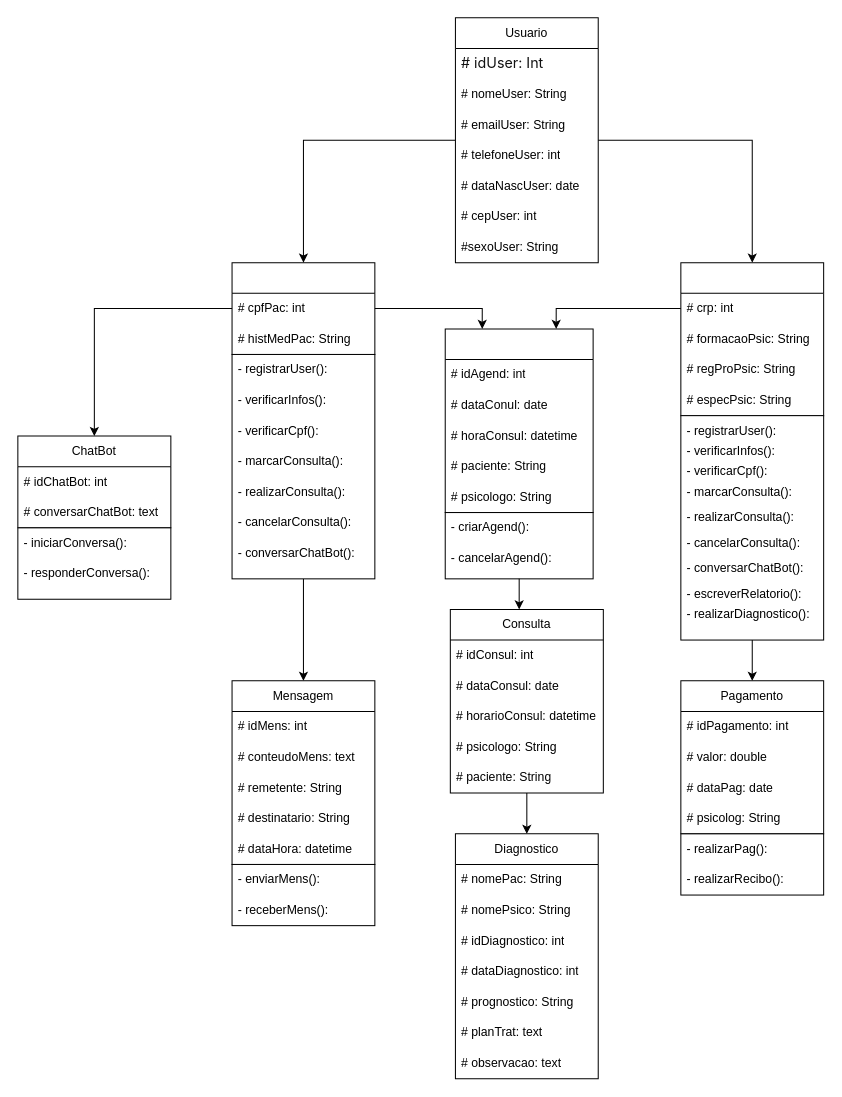
The diagram is 842 pixels wide and 1097 high, and some of its shapes have lost their labels. The shapes that lost their labels are listed below. From the top down, each one's box as (x1, y1, x2, y2) in pixels, then its label:
(231, 262, 375, 354): Paciente
(680, 262, 824, 416): Psicologo
(444, 328, 593, 513): Agendamento
